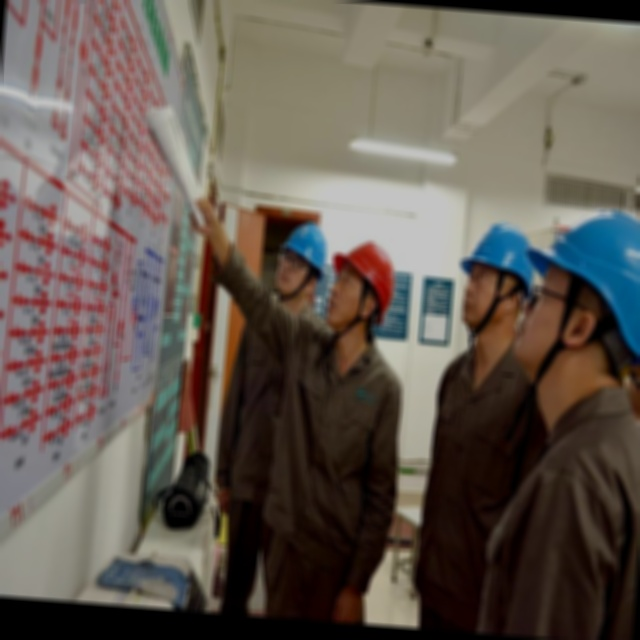Con_Casco: (274, 217, 331, 306)
Sin_Chaleco: (266, 322, 406, 587)
